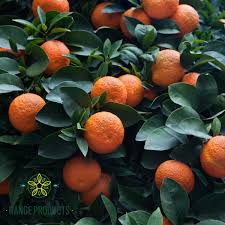orange: (80, 107, 124, 154), (10, 90, 49, 136), (147, 47, 184, 89), (153, 159, 194, 195), (61, 156, 101, 190), (37, 36, 73, 73), (90, 72, 127, 105), (118, 9, 153, 39), (114, 72, 144, 106)
